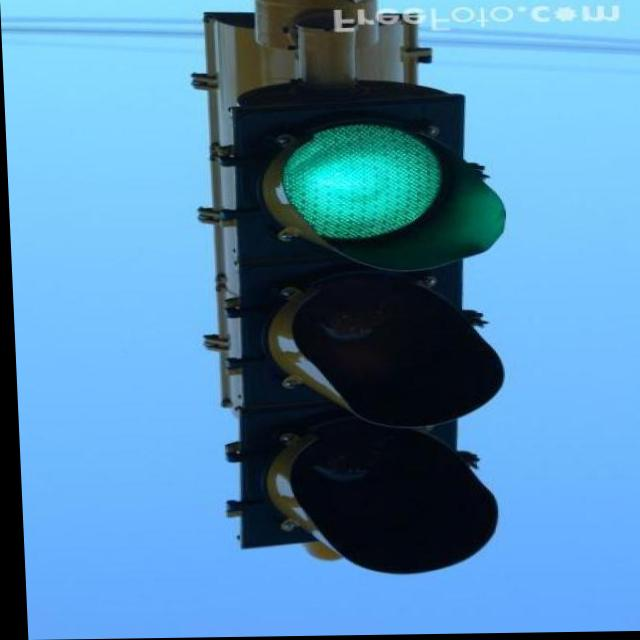green light: (241, 99, 500, 576)
